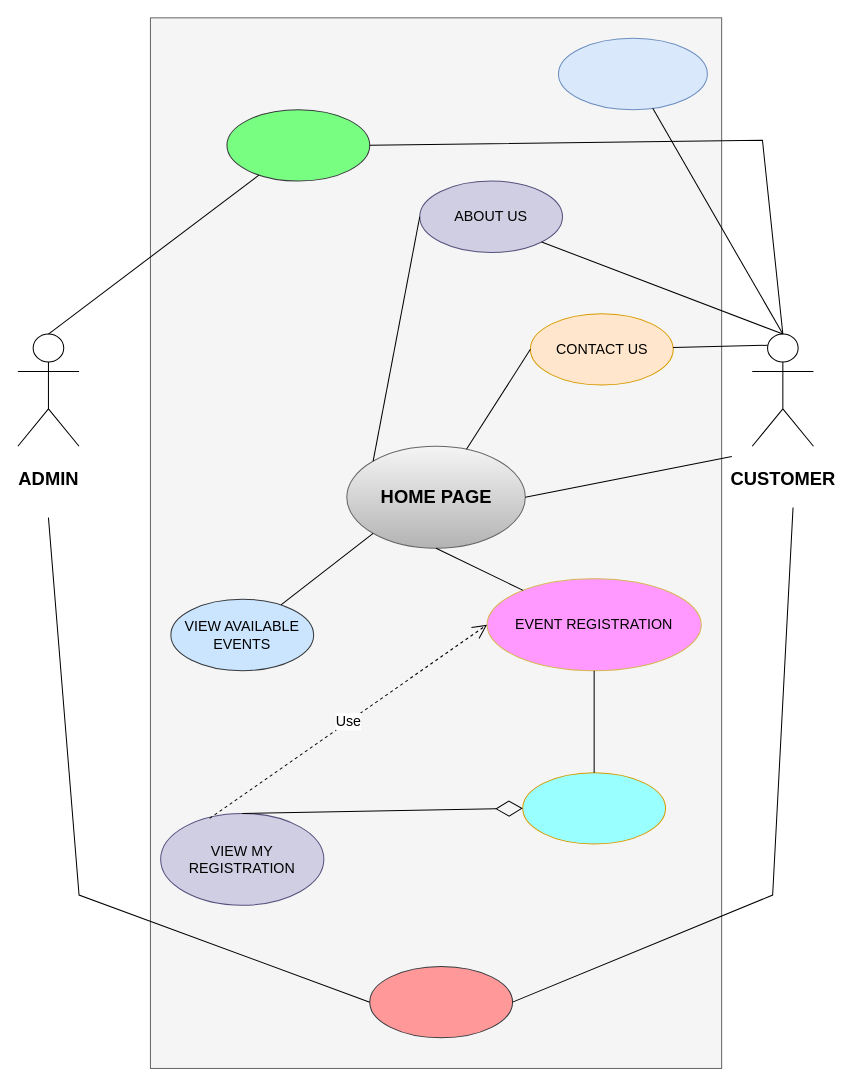
Some shapes in this 853 by 1086 pixel diagram are drawn without their labels. The box of each missing label's shape, as (x1, y1, x2, y2) in pixels:
CUSTOMER REGISTRATION: (557, 37, 707, 110)
LOG OUT: (369, 965, 513, 1038)
LOGIN: (226, 109, 370, 181)
PAYMENT: (522, 772, 666, 844)
